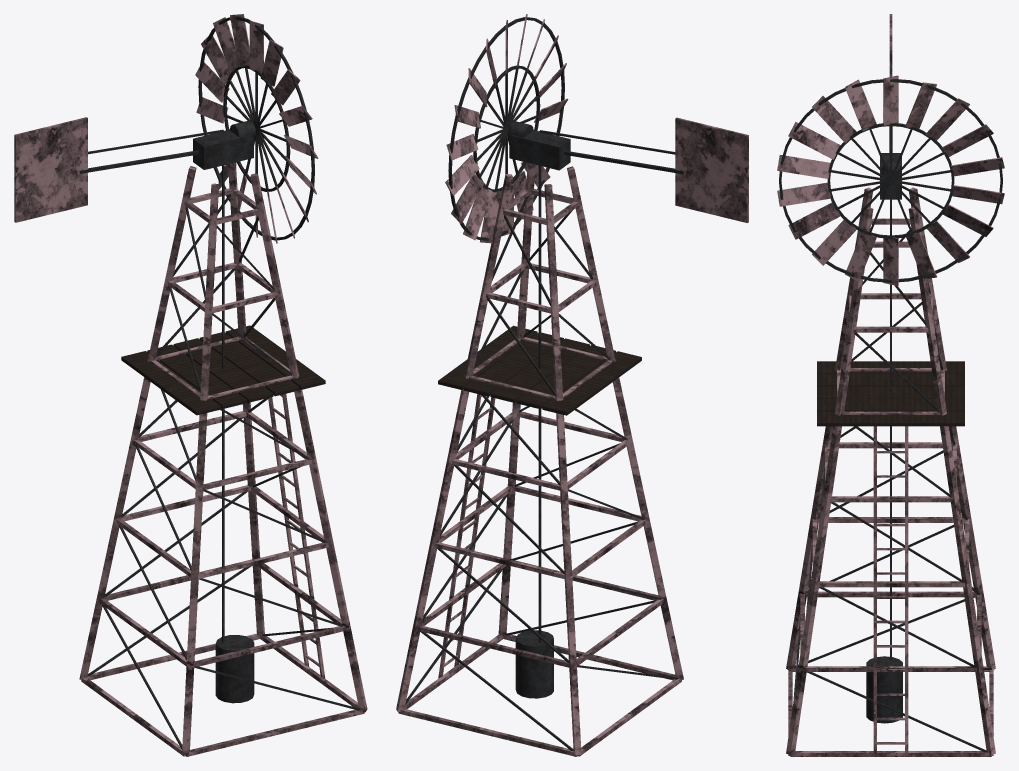
The model's file is windmill.glb.
3 renders of one model, left to right at view 1: azimuth 30°, elevation 25°; view 2: azimuth 150°, elevation 25°; view 3: azimuth 270°, elevation 25°, orthographic. The views are drawn at different scales.
Visible parts, largest first — view 1: windmill2; view 2: windmill2; view 3: windmill2.
Part boxes in pixels (<box>): windmill2: <box>14,14,367,756</box>; windmill2: <box>396,14,748,756</box>; windmill2: <box>777,14,1004,756</box>.
Size of the model in its own units: 1.81 by 3.82 by 1.21.
Materials: 3 (3 with a texture image).
